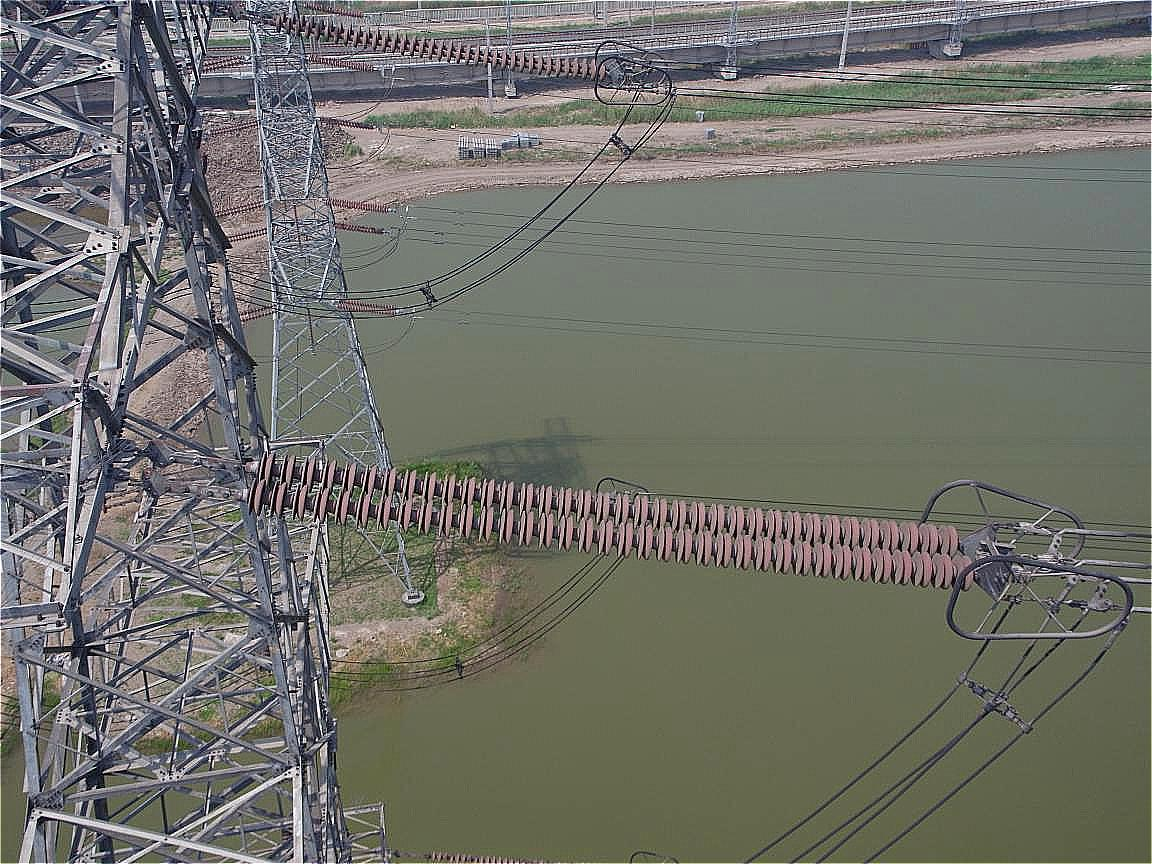insultor1: (272, 13, 606, 79)
insultor2: (249, 451, 975, 591)
